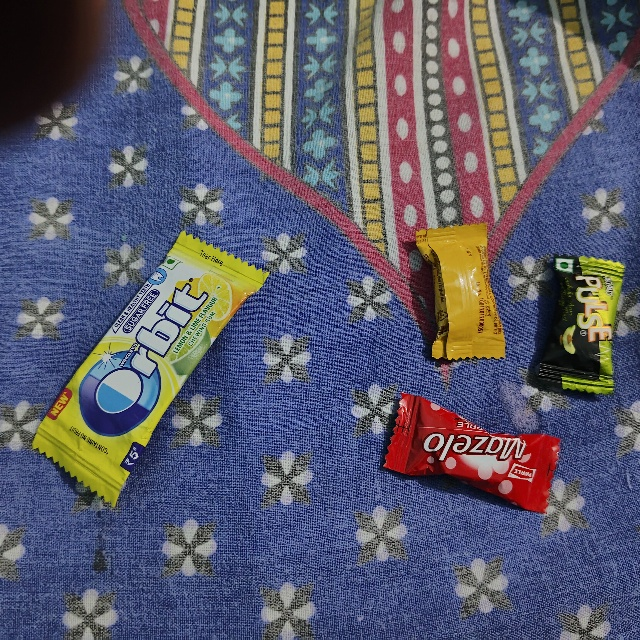Alpenlibe Creamfills: (412, 225, 510, 357), (614, 320, 621, 326)
Mazelo: (401, 389, 573, 475)
Orbit: (19, 450, 300, 559)
Pulse: (549, 244, 632, 390)
